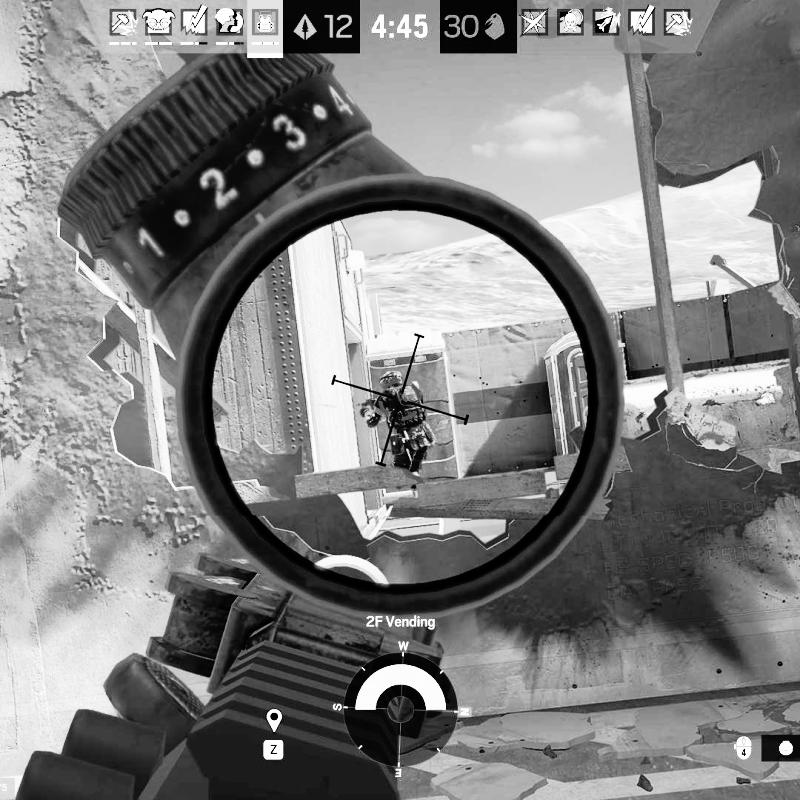Character: (358, 369, 438, 477)
Head: (377, 369, 404, 392)
